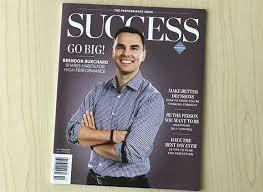Printing industry: (44, 1, 228, 192)
